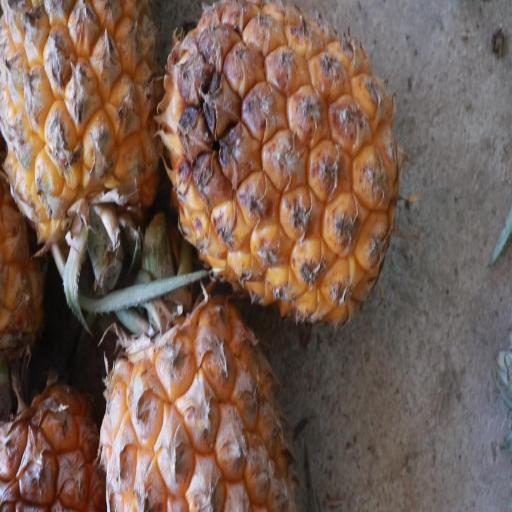Pineapple - v8 v1: (152, 11, 406, 344), (0, 1, 157, 290), (98, 298, 293, 512)
